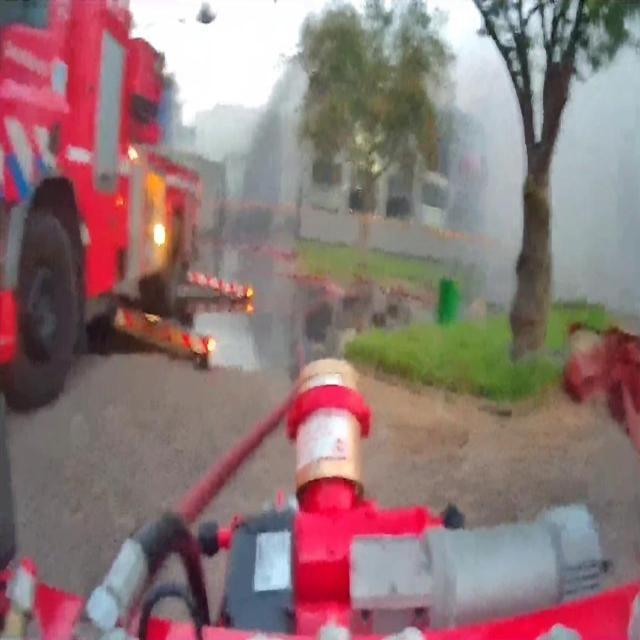Smoke: (240, 12, 314, 204)
